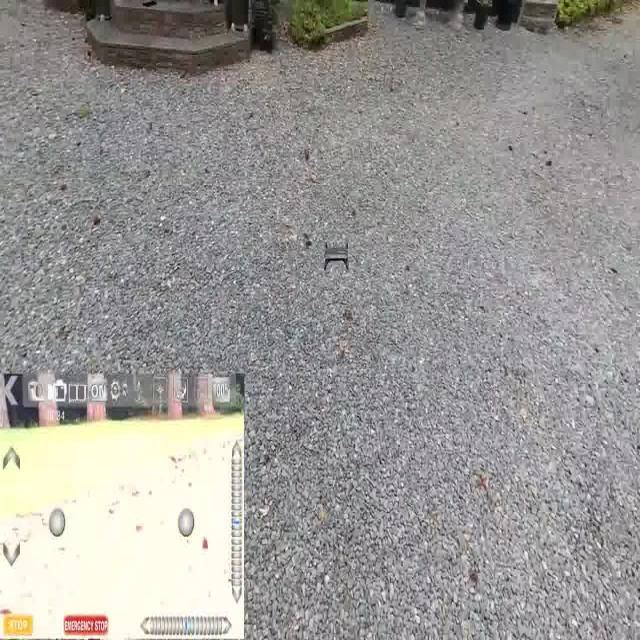drone: (323, 240, 351, 275)
